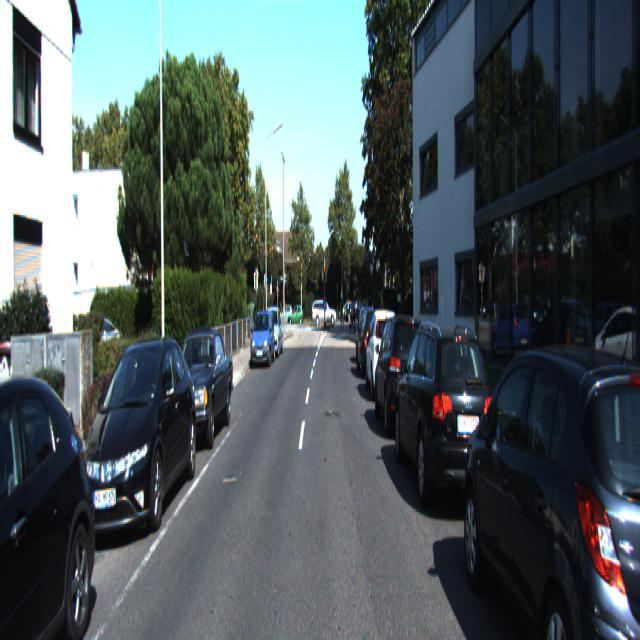Car: (466, 331, 640, 638), (0, 348, 110, 638), (75, 332, 199, 549), (392, 309, 504, 526), (162, 324, 235, 454), (373, 309, 433, 444), (365, 306, 404, 401), (356, 306, 388, 380), (249, 309, 276, 369), (355, 305, 379, 366), (260, 306, 284, 360)
